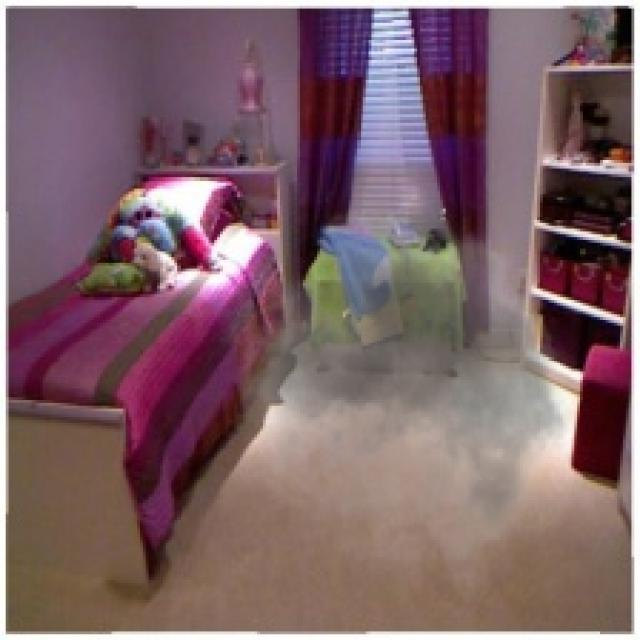smoke: (234, 191, 592, 606)
